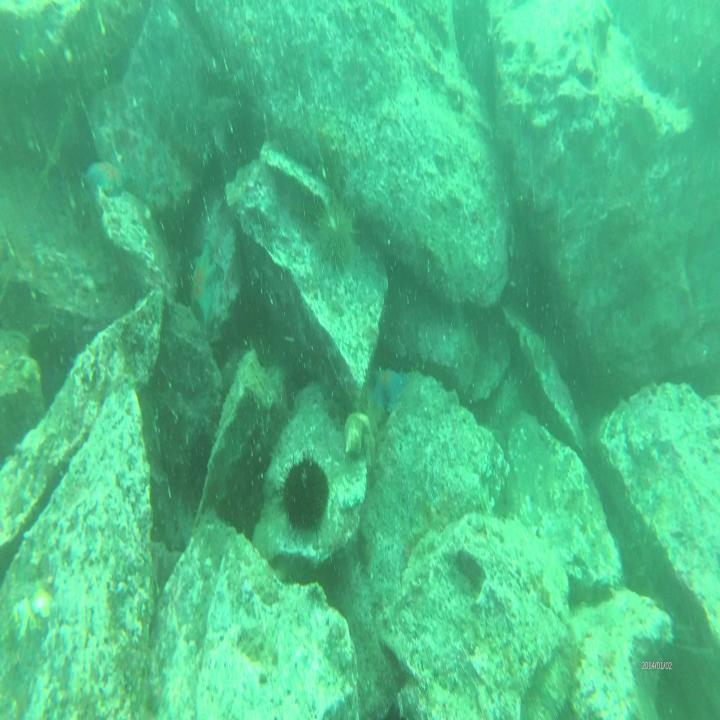echinus: (278, 451, 332, 538), (316, 189, 359, 276)
starfish: (185, 235, 222, 334), (84, 157, 135, 198), (371, 364, 411, 413), (15, 586, 44, 646), (28, 580, 57, 624)
